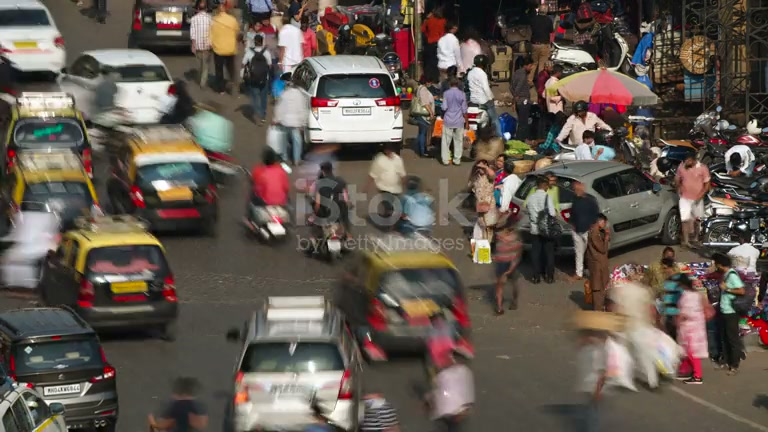car: (230, 296, 365, 430), (39, 213, 180, 339), (0, 304, 119, 430), (537, 158, 683, 255), (358, 249, 474, 359), (106, 129, 220, 237), (289, 54, 404, 153), (58, 48, 182, 125), (6, 150, 103, 232), (4, 112, 94, 180), (0, 1, 67, 82), (0, 206, 62, 292), (0, 374, 70, 431), (128, 0, 195, 54)
motorcycle: (298, 220, 356, 263), (241, 201, 289, 244)
pedestrian: (590, 265, 684, 403), (712, 253, 749, 375), (674, 272, 712, 383), (426, 346, 476, 430), (269, 72, 313, 166), (562, 180, 600, 279), (247, 146, 291, 231), (490, 207, 524, 316), (524, 173, 557, 285), (674, 150, 711, 246), (311, 161, 353, 240), (209, 1, 242, 96), (583, 210, 612, 312), (439, 76, 468, 167), (556, 101, 612, 146), (189, 0, 216, 89), (368, 141, 408, 195)
